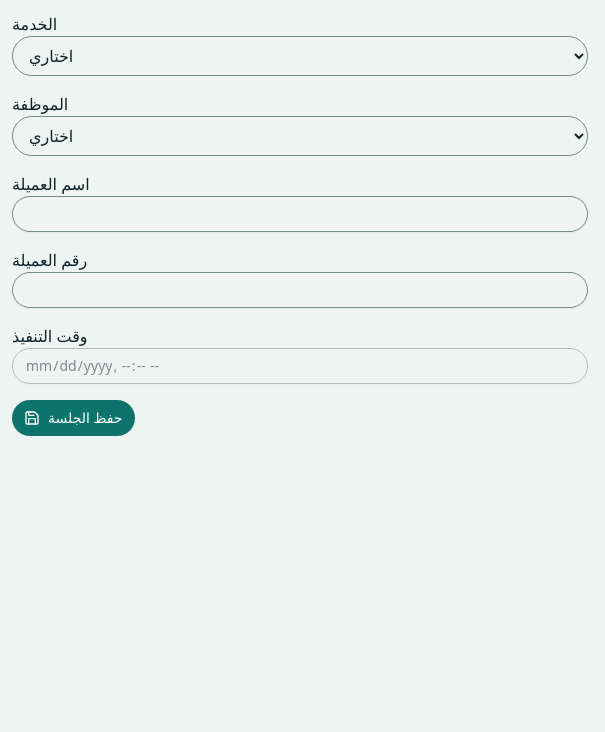
Test case: keeps the price fields visible with a zero cap and surfaces the missing reason error
Select "Haircut" in the dropdown labelled "الخدمة": (300, 56) [12,36,588,76]
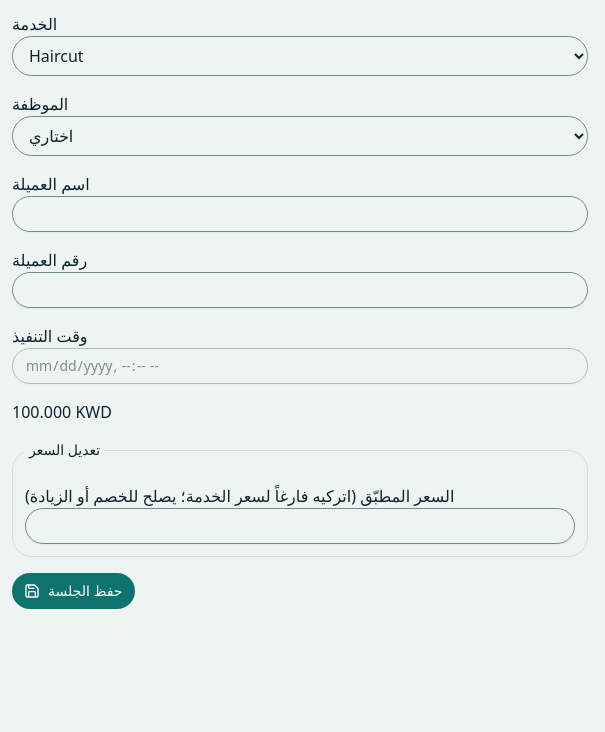
Expected: the field labelled "السعر المطبّق (اتركيه فارغاً لسعر الخدمة؛ يصلح للخصم أو الزيادة)" is shown
In the field labelled "السعر المطبّق (اتركيه فارغاً لسعر الخدمة؛ يصلح للخصم أو الزيادة)": (300, 526) [25,508,575,544], type "15.000"
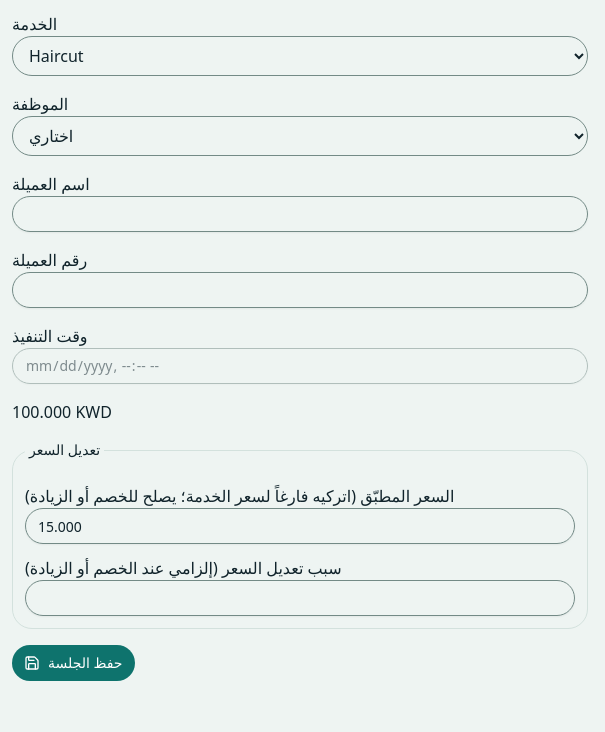
In the field labelled "اسم العميلة": (300, 214) [12,196,588,232], type "Noura"
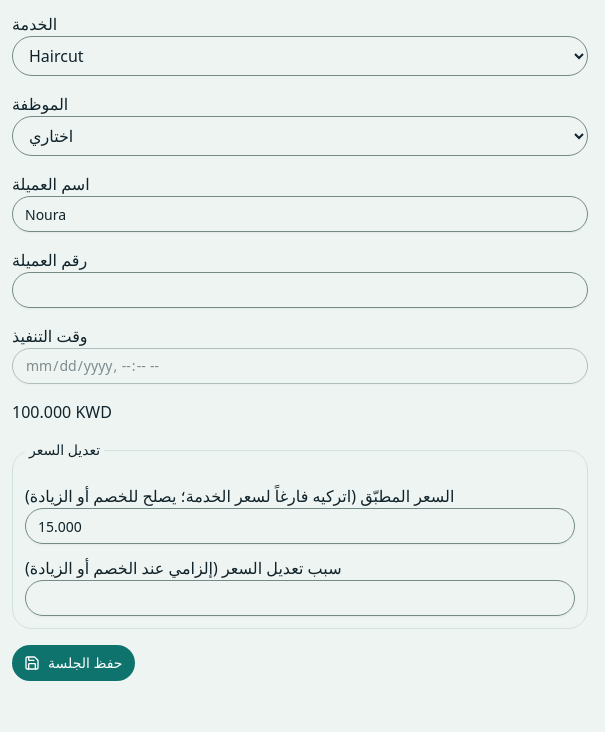
In the field labelled "رقم العميلة": (300, 290) [12,272,588,308], type "96550001111"
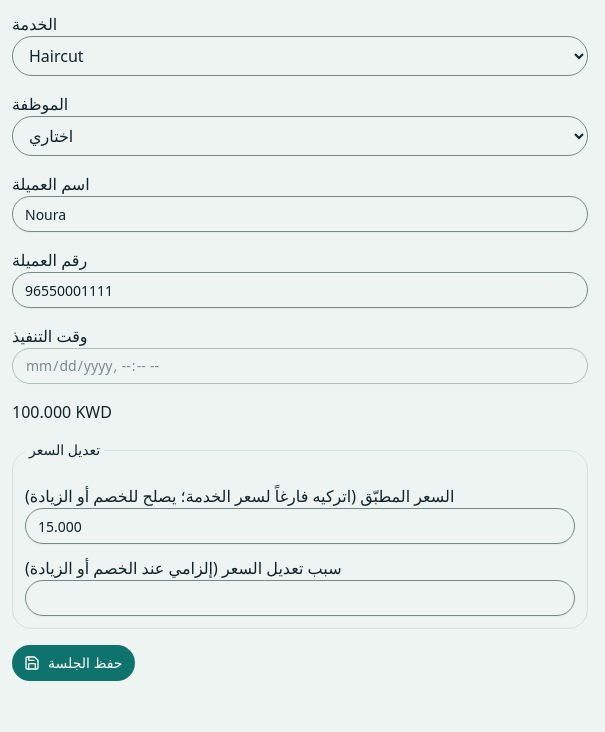
In the field labelled "وقت التنفيذ": (300, 366) [12,348,588,384], type "2027-03-10T14:30"
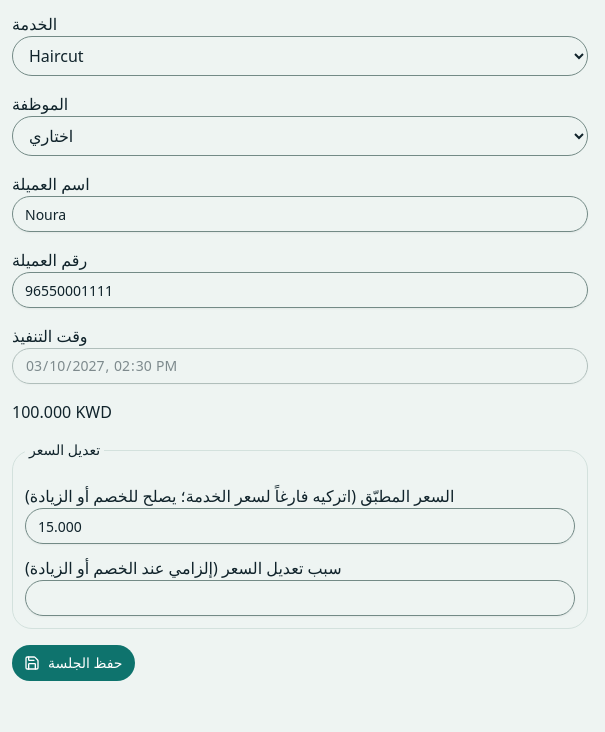
Submit the form named "حفظ الجلسة"
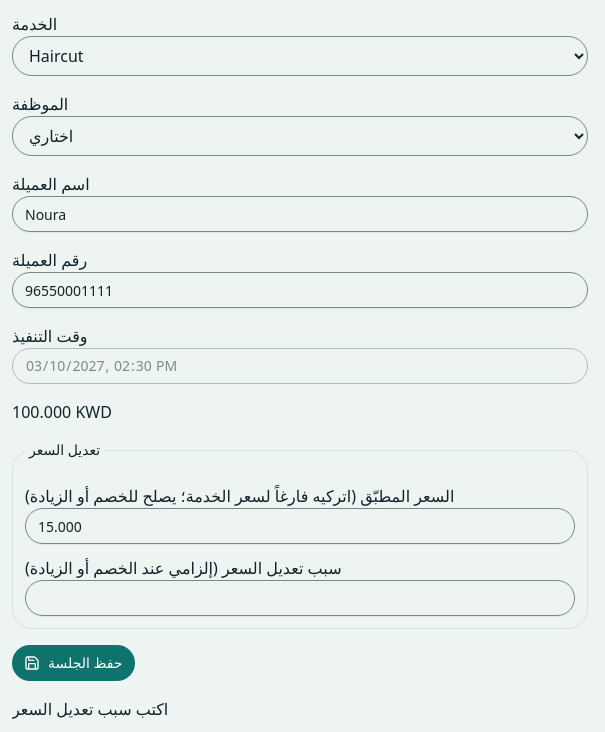
Expected: the text "اكتب سبب تعديل السعر" is shown, [12,698,168,720]
